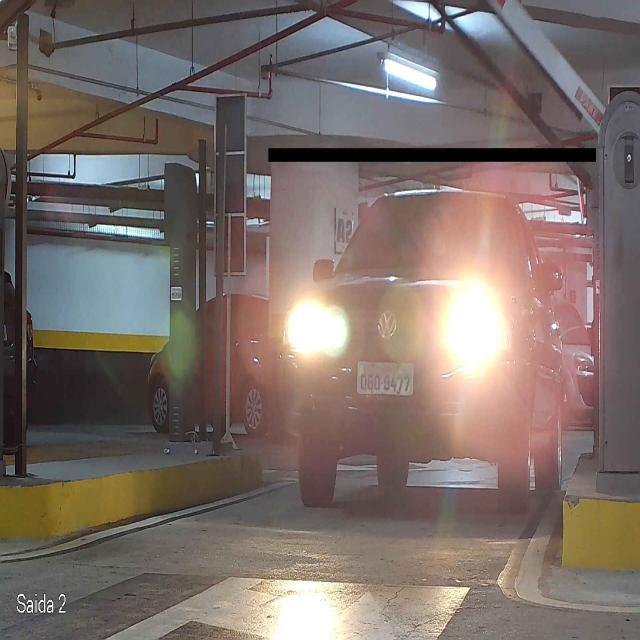old_plate: (355, 358, 416, 398)
